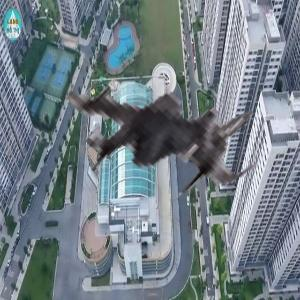drone: (54, 12, 270, 228)
